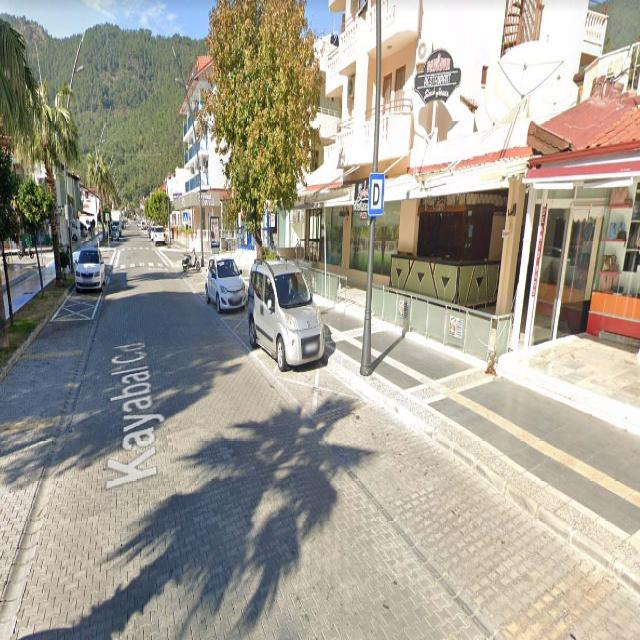durak: (369, 173, 384, 214)
